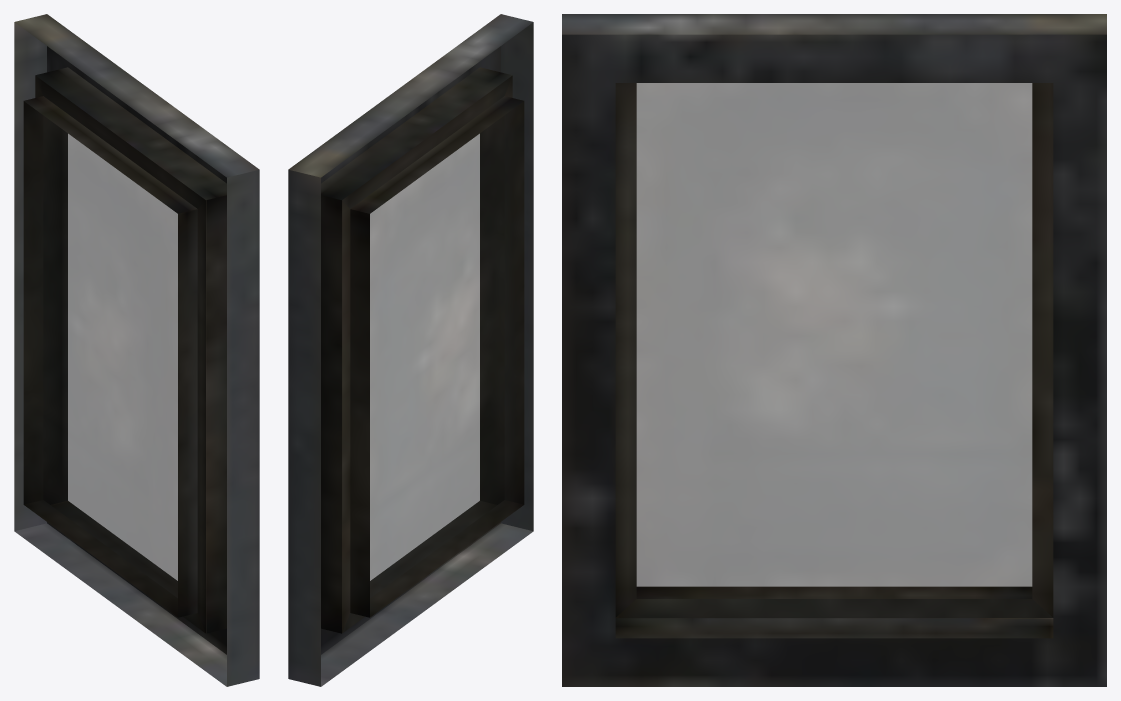
File: SingleWindow.FBX
The picture shows the model from 3 angles, left to right: view 1: azimuth 30°, elevation 25°; view 2: azimuth 150°, elevation 25°; view 3: azimuth 270°, elevation 25°; orthographic projection. The views are drawn at different scales.
Parts seen in each view (by area): view 1: SingleWindow; view 2: SingleWindow; view 3: SingleWindow.
Part boxes in pixels (x1,y1,x2,y2): SingleWindow: [14, 14, 259, 686]; SingleWindow: [288, 14, 533, 686]; SingleWindow: [562, 14, 1106, 686].
Bounding box in the file's own units: 18.02 × 167 × 126.
